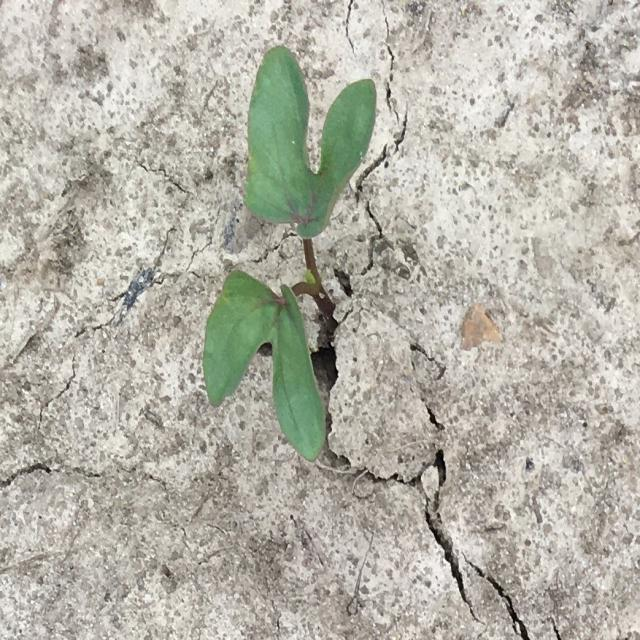MorningGlory: (202, 46, 377, 462)
